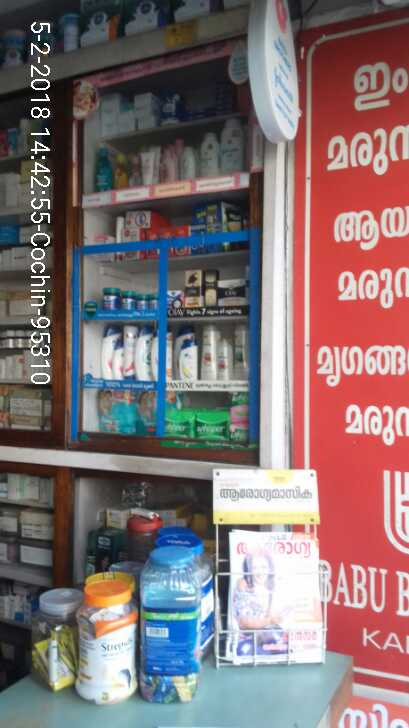vicks: (103, 284, 161, 313)
